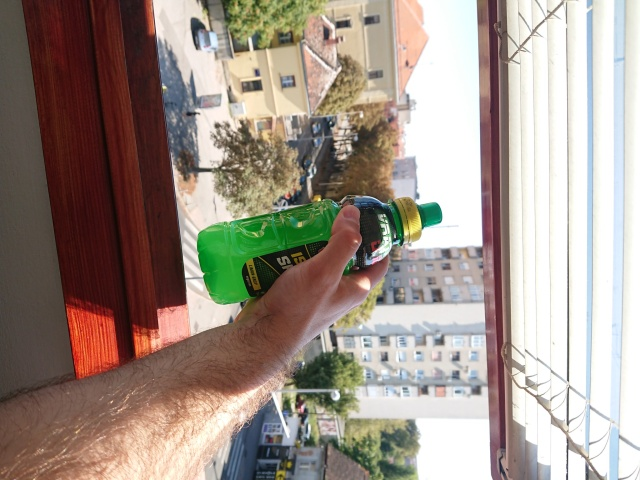Vindi Iso Sport Lemon-Grapefruit 500mL: (194, 192, 445, 308)
